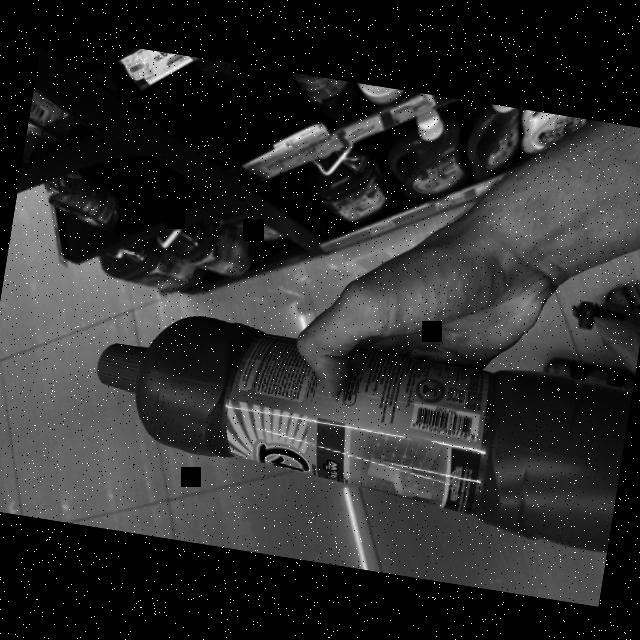chemical_plastic_bottle: (70, 290, 636, 562)
